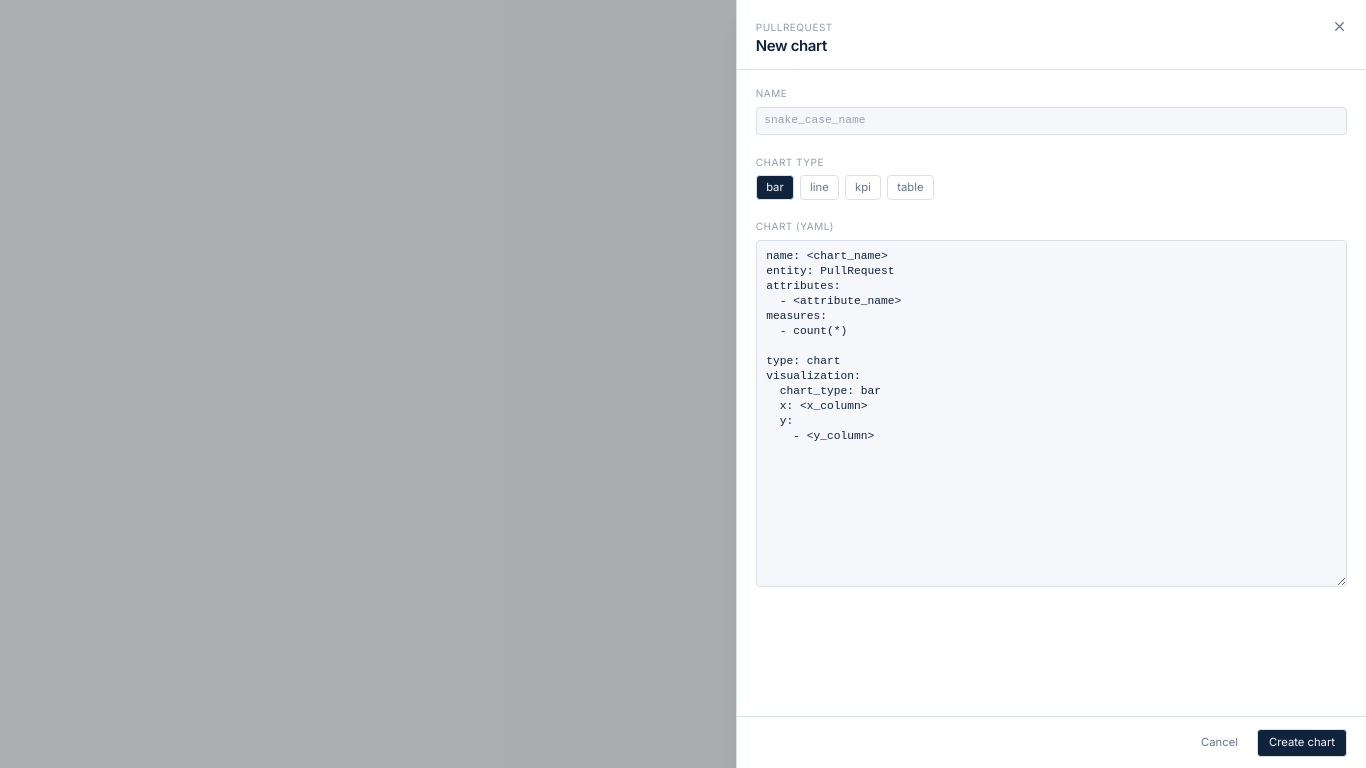
Test: NewChartDrawer › shows server error inline and keeps drawer open
Type "works" into the field with placeholder "snake_case_name".
click(1052, 121); type("works")  # box [756,106,1347,135]
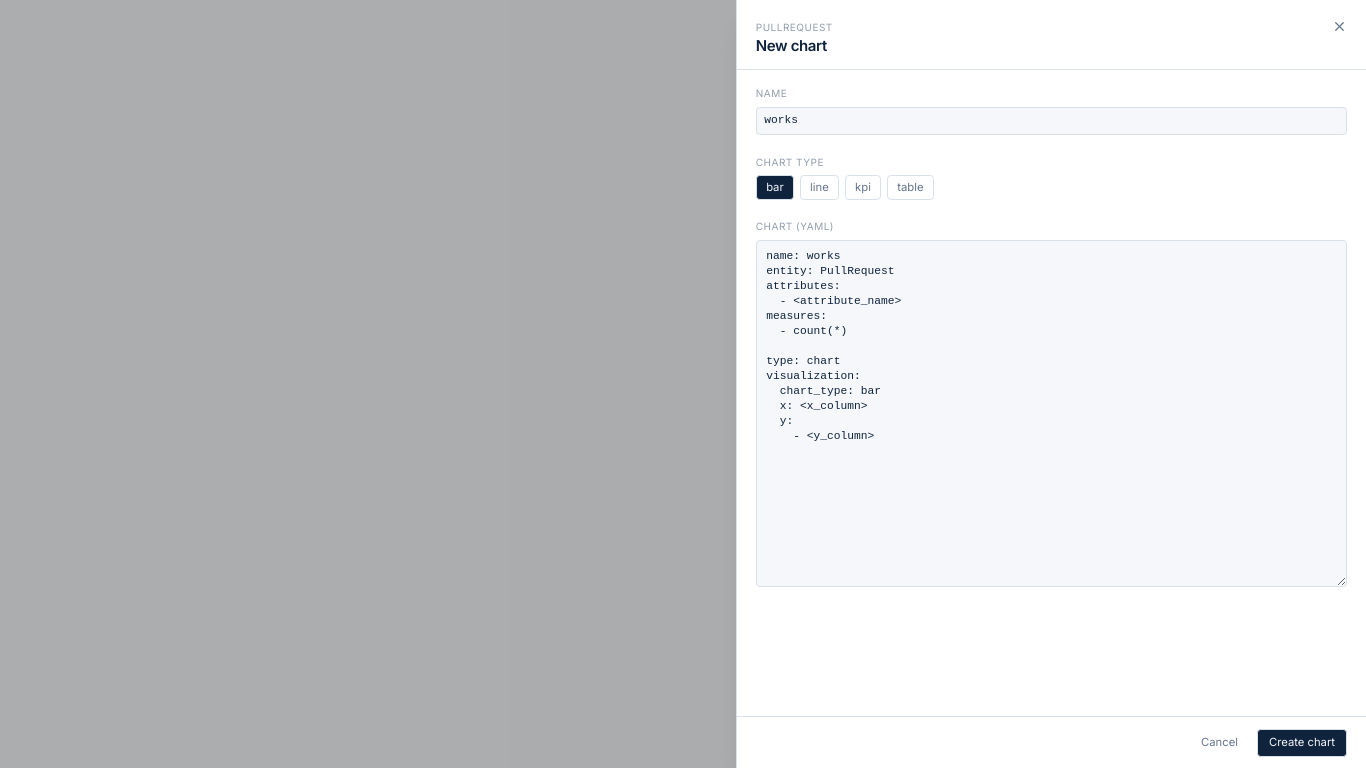
Click the button "Create chart".
click(1302, 743)  # box [1257,728,1347,757]
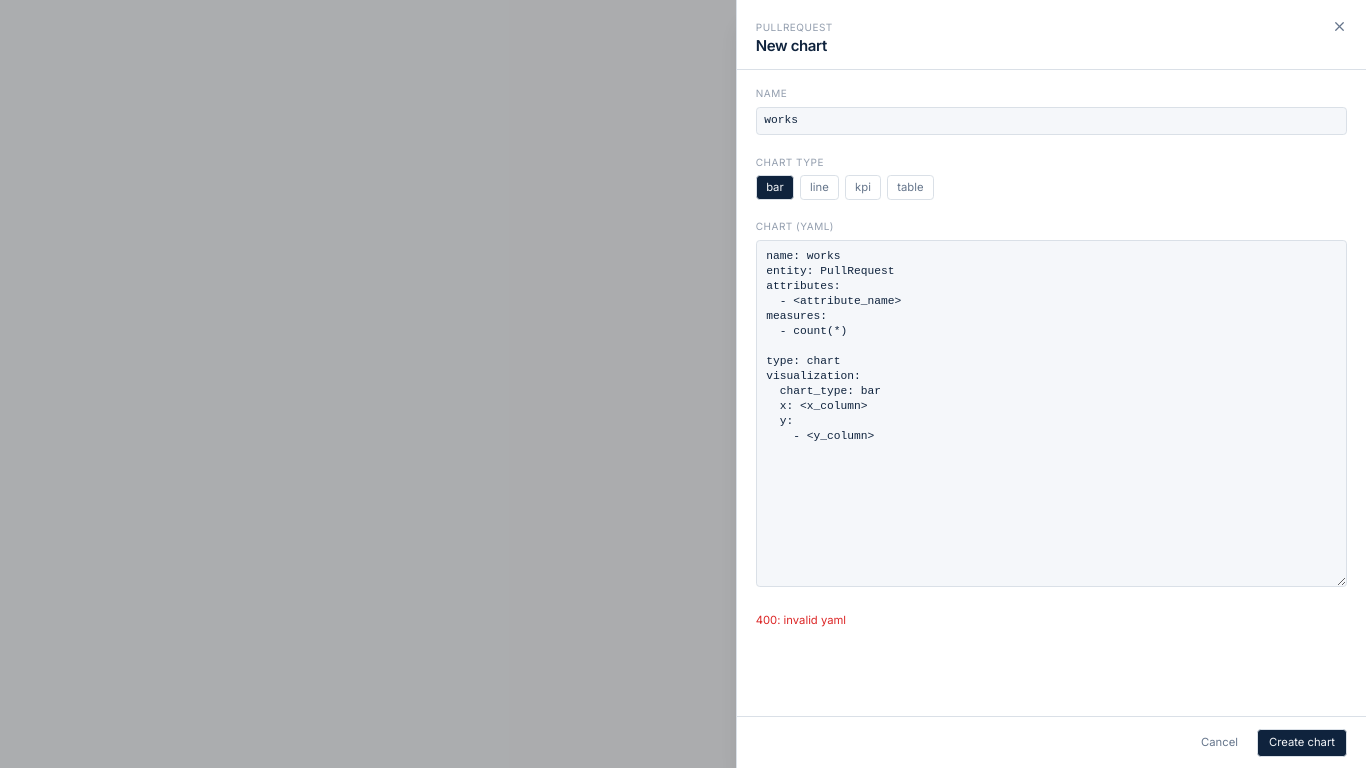
expect the text "400: invalid yaml" is shown: met, box [756,613,846,627]
